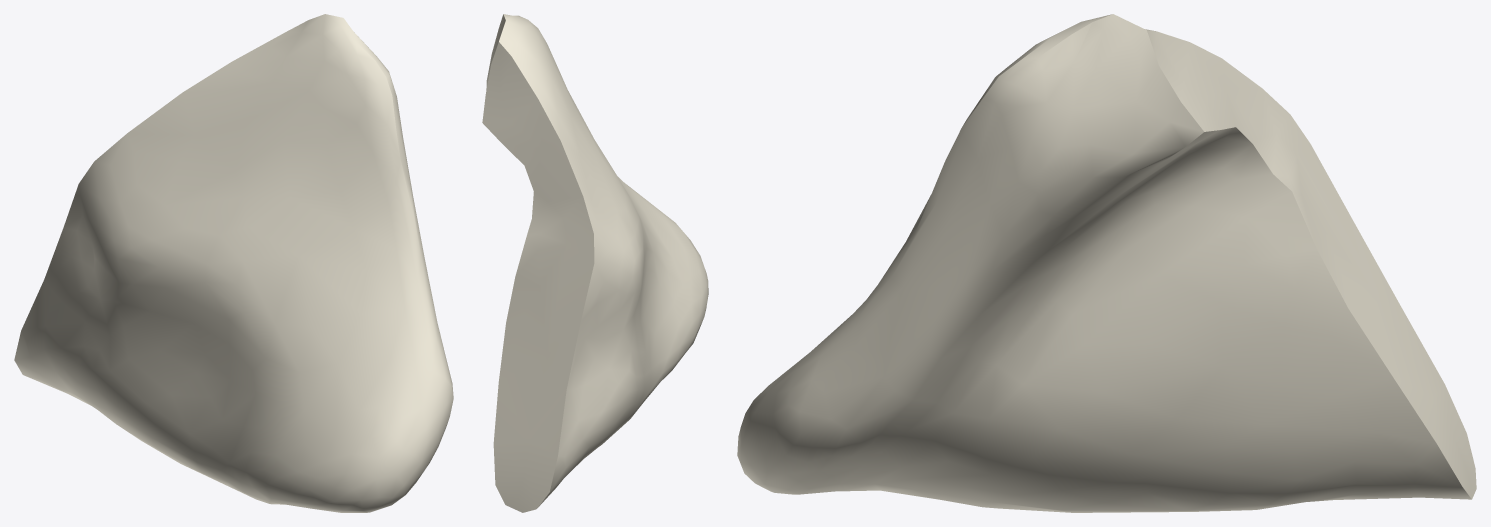
Rendered from fma57598_mm2164.glb.
3 views of the same model, side by side, from view 1: azimuth 30°, elevation 25°; view 2: azimuth 150°, elevation 25°; view 3: azimuth 270°, elevation 25° (orthographic). The views are drawn at different scales.
Visible parts, largest first — view 1: FMA57598_MM2164; view 2: FMA57598_MM2164; view 3: FMA57598_MM2164.
Boxes of the visible parts, <box> form: FMA57598_MM2164: <box>14,14,453,512</box>; FMA57598_MM2164: <box>482,14,708,512</box>; FMA57598_MM2164: <box>737,14,1476,512</box>.
Size of the model in its own units: 0.0056 by 0.01 by 0.0117.
